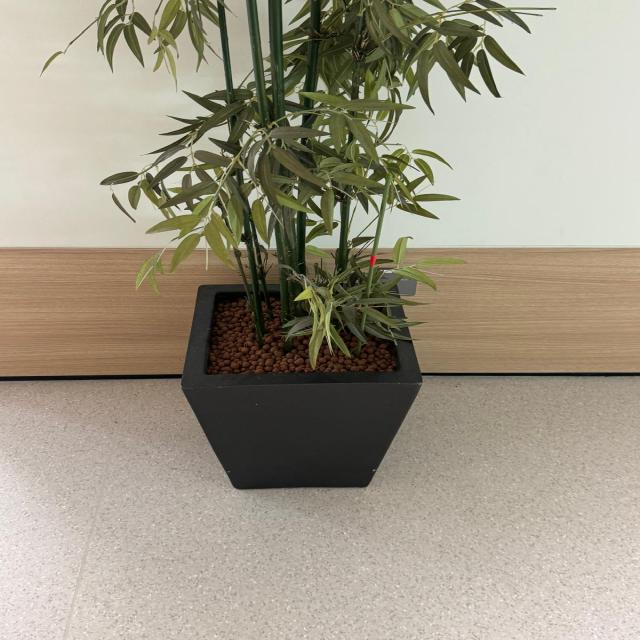Pot: (181, 280, 422, 489)
